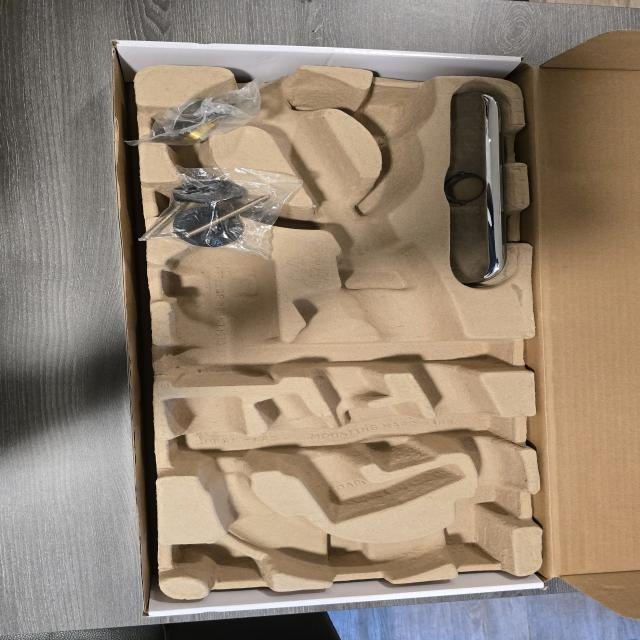1m: (163, 67, 522, 582)
2m: (255, 394, 463, 523)
3m: (165, 214, 282, 383)
4: (447, 91, 506, 285)
5m: (361, 90, 430, 136)
6: (129, 78, 263, 147)
7: (136, 165, 306, 258)
